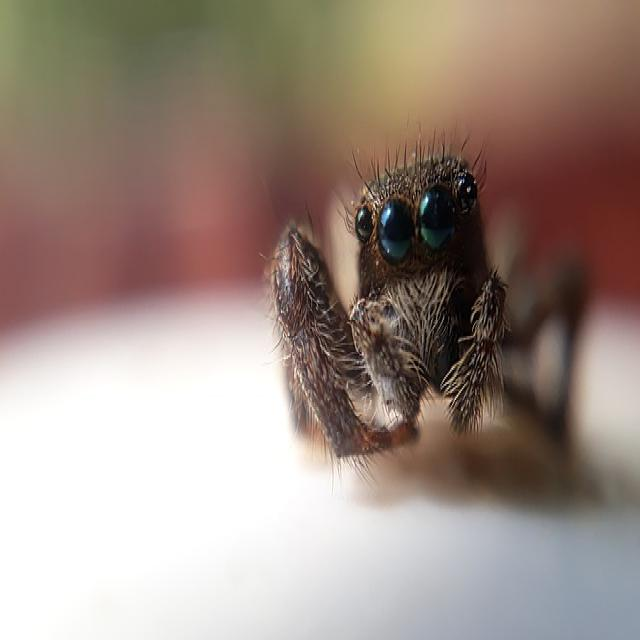spyder: (270, 151, 505, 458)
